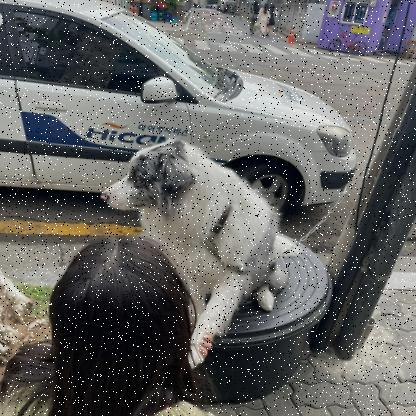dog: (96, 137, 305, 354)
